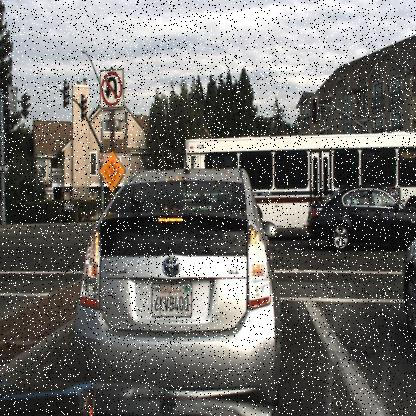car: (68, 156, 282, 397), (172, 121, 415, 245), (306, 186, 416, 255), (396, 214, 415, 351)
trafficLight-Red: (309, 90, 320, 126)
truck: (181, 130, 416, 232)
